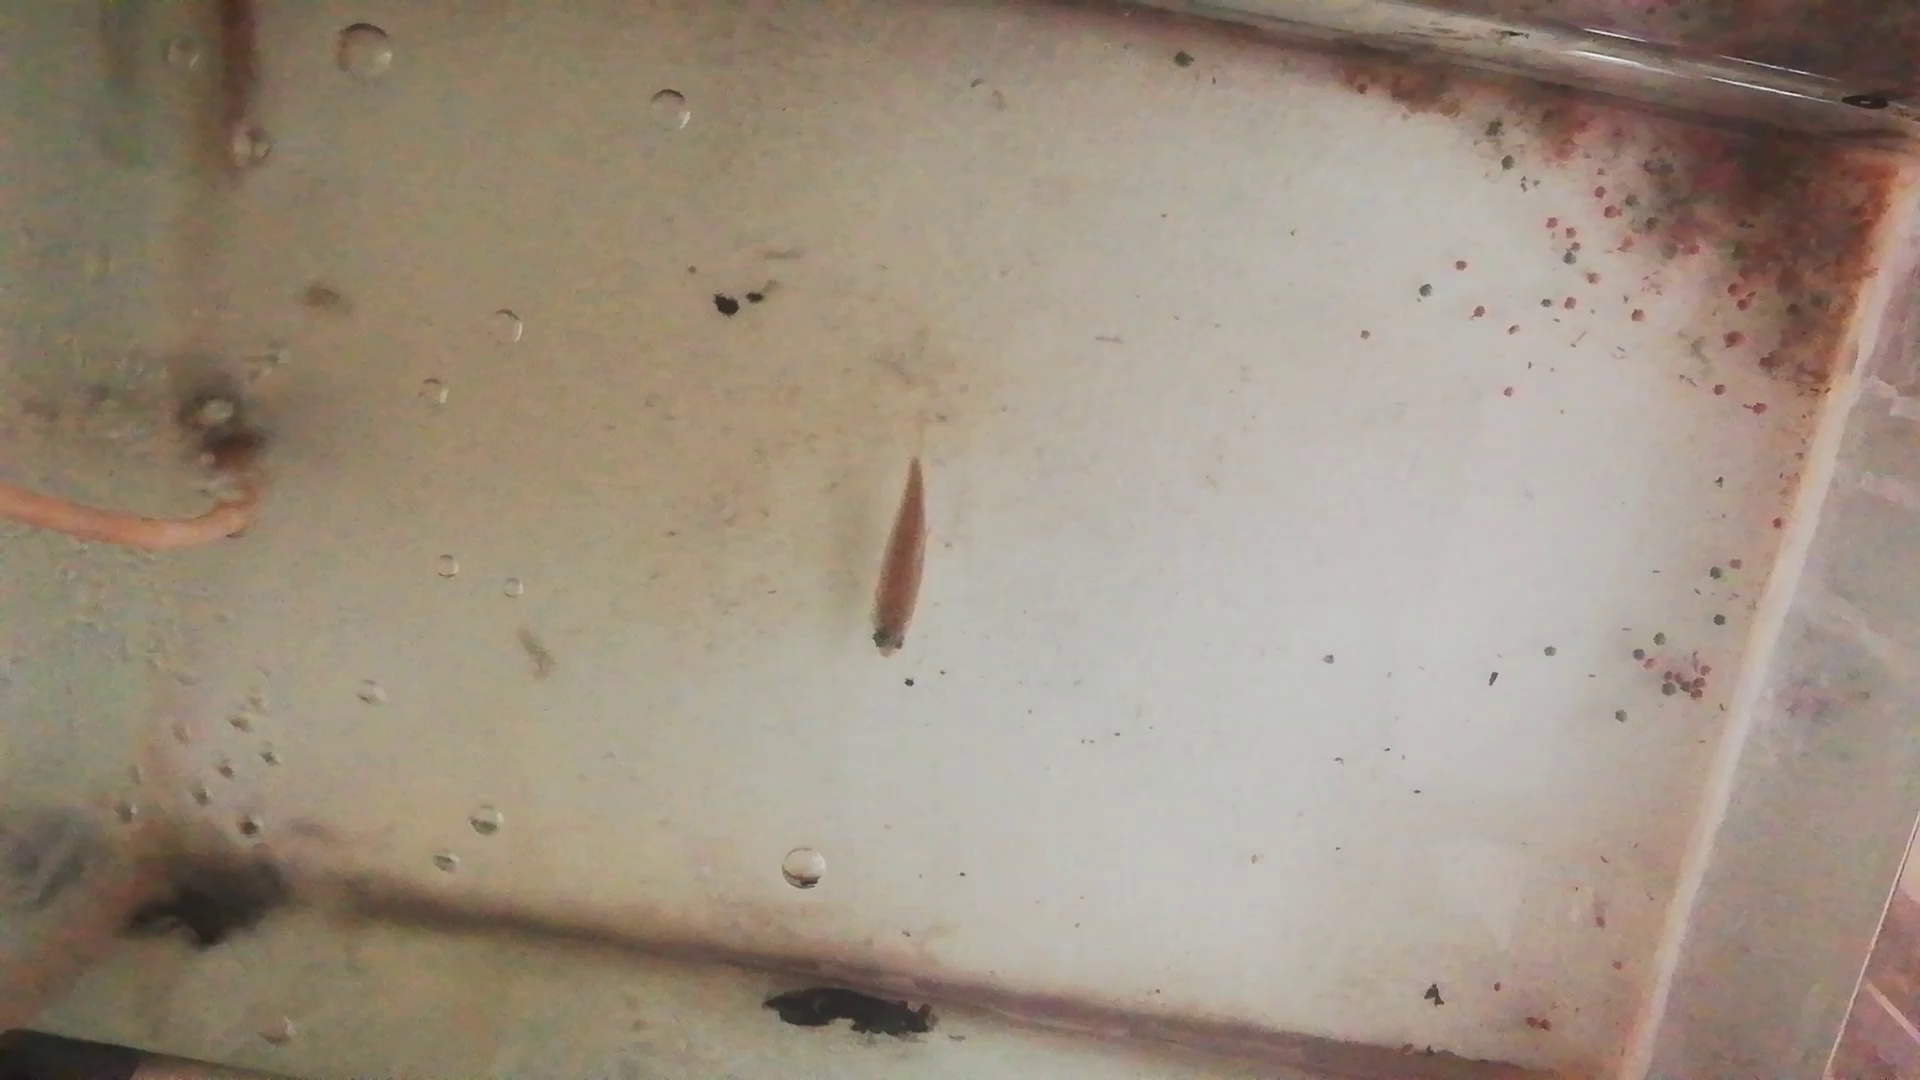fish: (866, 458, 932, 663), (204, 7, 255, 171)
